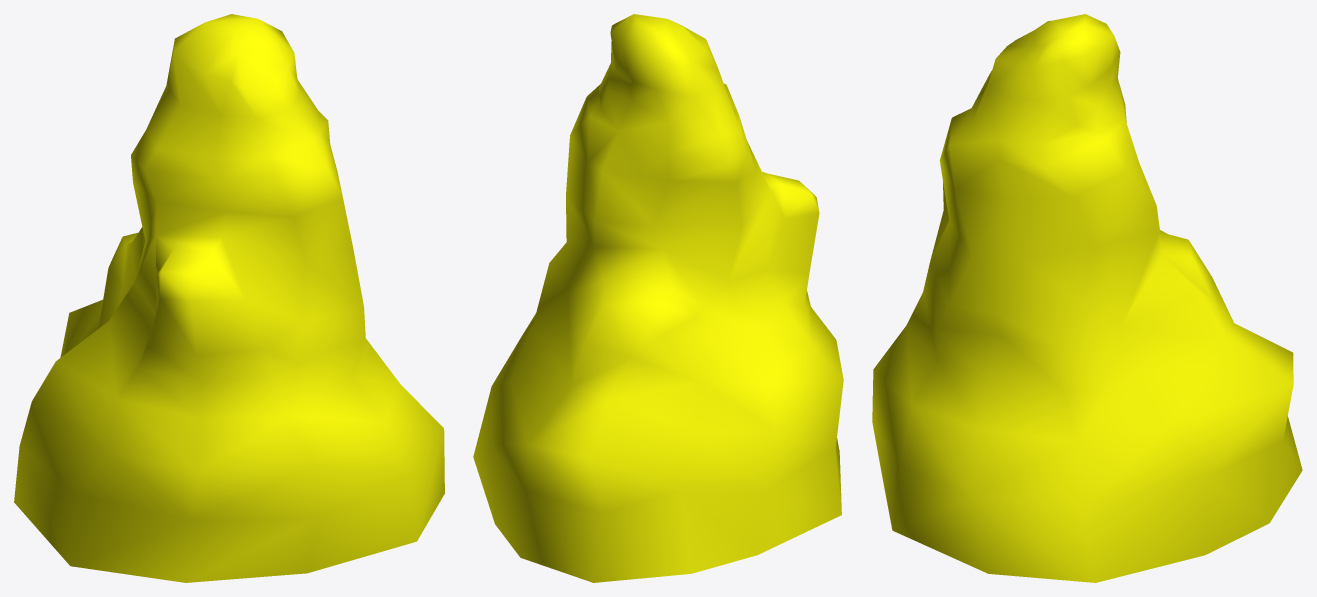
The model's file is rock_pillar_02.glb.
3 renders of one model, left to right at view 1: azimuth 30°, elevation 25°; view 2: azimuth 150°, elevation 25°; view 3: azimuth 270°, elevation 25°, orthographic. The views are drawn at different scales.
Parts seen in each view (by area): view 1: rock_pillar_02; view 2: rock_pillar_02; view 3: rock_pillar_02.
Part boxes in pixels (x1,y1,x2,y2): rock_pillar_02: (14,14,444,582); rock_pillar_02: (473,14,843,582); rock_pillar_02: (872,14,1302,582).
Bounding box in the file's own units: 30.08 × 40.5 × 32.36.
Materials: 1 (1 with a texture image).
